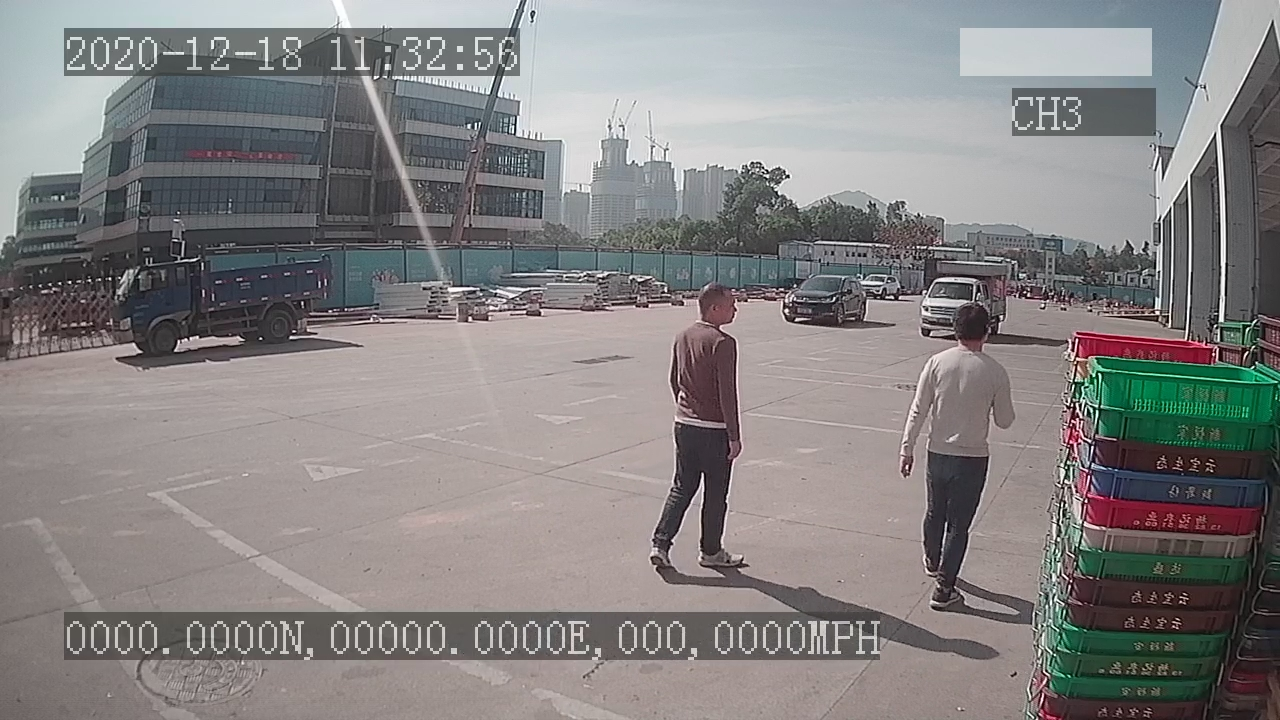person: (648, 277, 750, 571)
